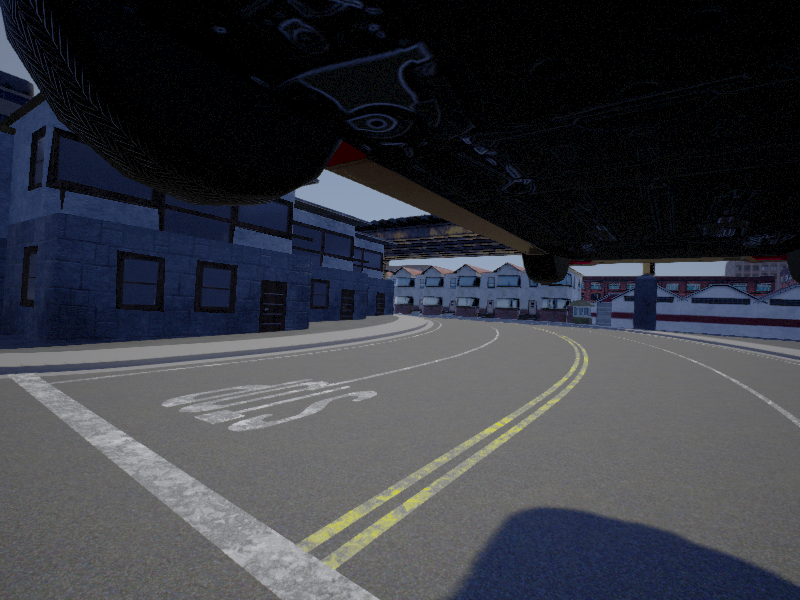Attacker: (3, 1, 800, 284)
